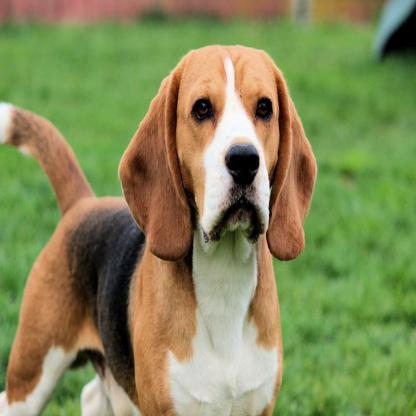Bigl: (1, 43, 320, 415)
